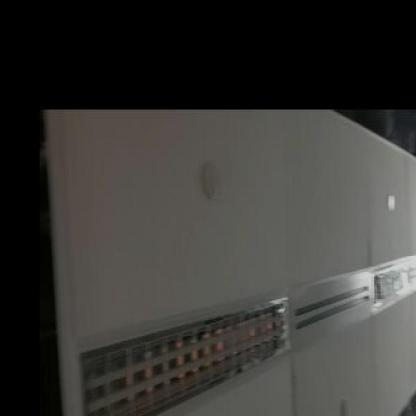light_off: (66, 283, 289, 415), (368, 252, 414, 322)
